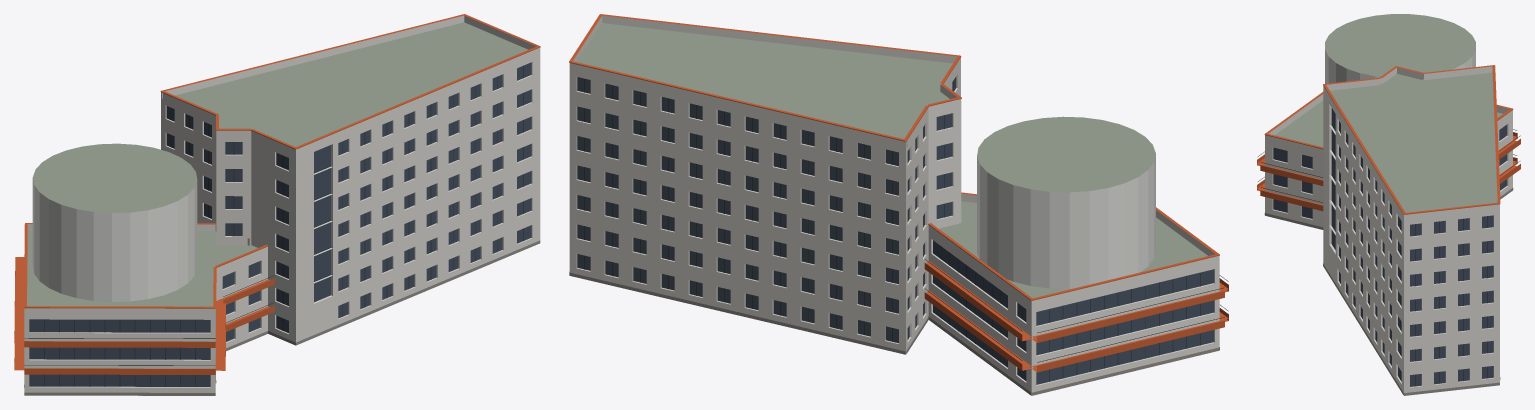
3 renders of one model, left to right at view 1: azimuth 30°, elevation 25°; view 2: azimuth 150°, elevation 25°; view 3: azimuth 270°, elevation 25°, orthographic. The views are drawn at different scales.
Parts seen in each view (by area): view 1: venture__wall, venture__roof, venture__glass, venture__drum, venture__trim, venture__parapet, venture__frame, venture__base; view 2: venture__wall, venture__roof, venture__glass, venture__drum, venture__trim, venture__parapet, venture__frame, venture__base; view 3: venture__wall, venture__roof, venture__glass, venture__trim, venture__parapet, venture__base, venture__frame, venture__drum.
Part boxes in pixels (x1,y1,x2,y2): venture__wall: (24,53,540,392); venture__roof: (27,22,528,395); venture__glass: (29,62,531,386); venture__drum: (32,177,197,301); venture__trim: (14,14,540,374); venture__parapet: (24,15,540,314); venture__frame: (24,65,523,386); venture__base: (24,240,540,395); venture__wall: (569,63,1219,395); venture__roof: (577,23,1207,395); venture__glass: (577,76,1213,384); venture__drum: (977,153,1155,288); venture__trim: (569,14,1228,372); venture__parapet: (569,15,1219,307); venture__frame: (584,78,1228,381); venture__base: (569,272,1219,395); venture__wall: (1265,91,1512,394); venture__roof: (1275,14,1502,212); venture__glass: (1273,108,1506,386); venture__trim: (1257,65,1520,214); venture__parapet: (1265,66,1512,220); venture__base: (1264,188,1513,395); venture__frame: (1258,123,1520,386); venture__drum: (1325,50,1475,83).
Size of the model in its own units: 76.45 by 26.12 by 34.34.
